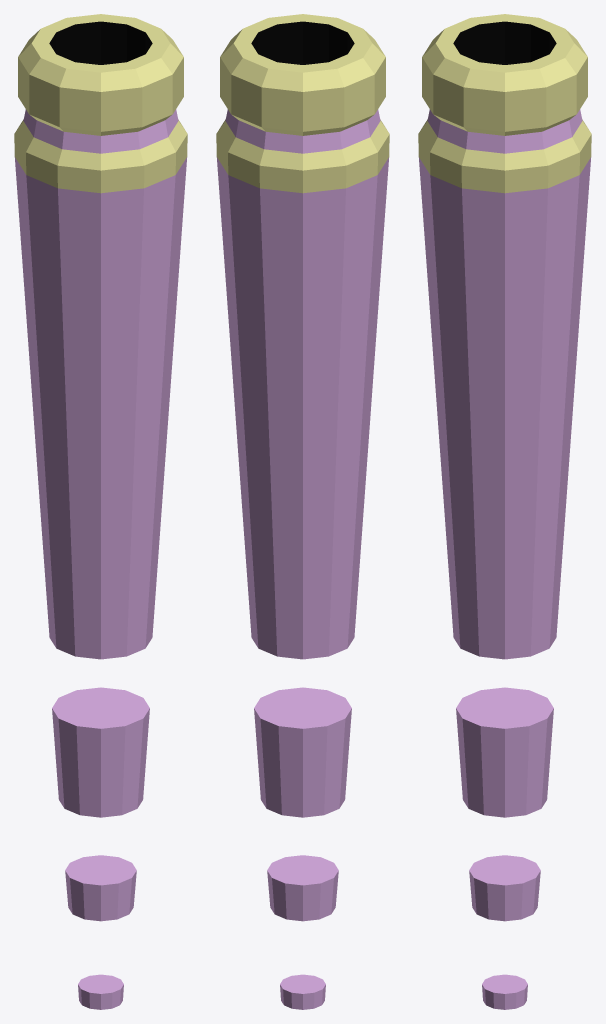
The model's file is Pipe.fbx.
The picture shows the model from 3 angles, left to right: view 1: azimuth 30°, elevation 25°; view 2: azimuth 150°, elevation 25°; view 3: azimuth 270°, elevation 25°; orthographic projection.
Visible parts, largest first — view 1: Cylinder; view 2: Cylinder; view 3: Cylinder.
Part boxes in pixels (bbox=[...]): Cylinder: bbox=[14, 14, 187, 1009]; Cylinder: bbox=[216, 14, 389, 1009]; Cylinder: bbox=[418, 14, 591, 1009].
Bounding box in the file's own units: 109 × 662 × 109.
